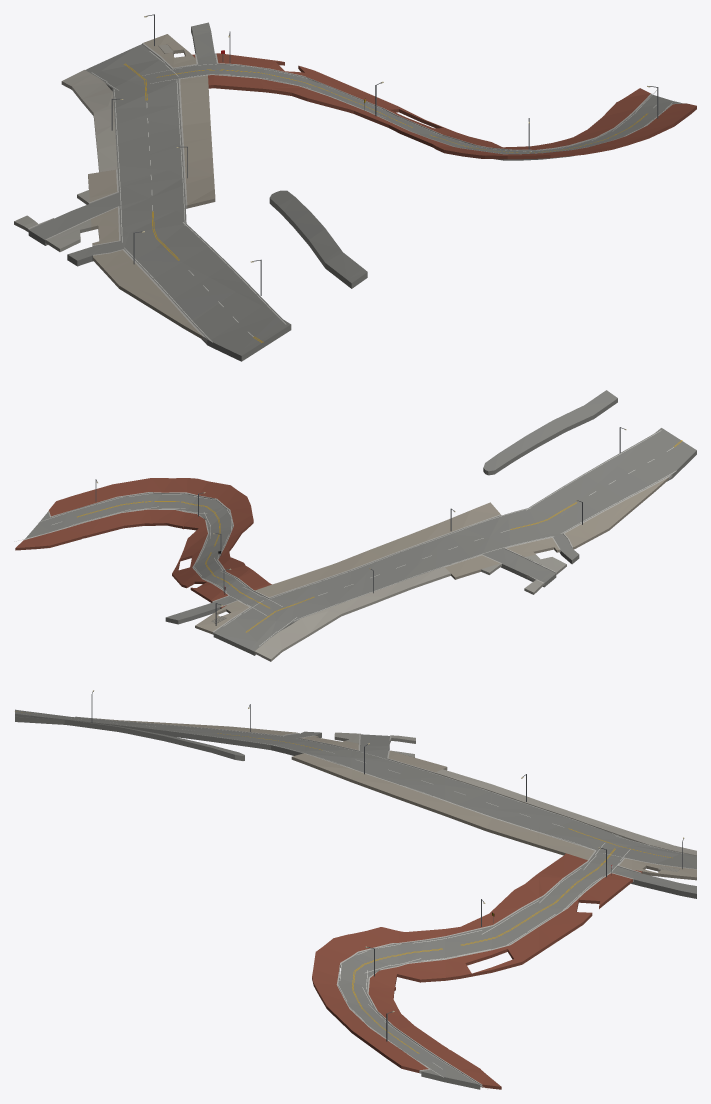
The model's file is 18-218882-118949.cac99d59.glb.
3 views of the same model, one above another, from view 1: azimuth 30°, elevation 25°; view 2: azimuth 150°, elevation 25°; view 3: azimuth 270°, elevation 25° (orthographic). The views are drawn at different scales.
Bounding box in the file's own units: 149 × 32.32 × 146.
